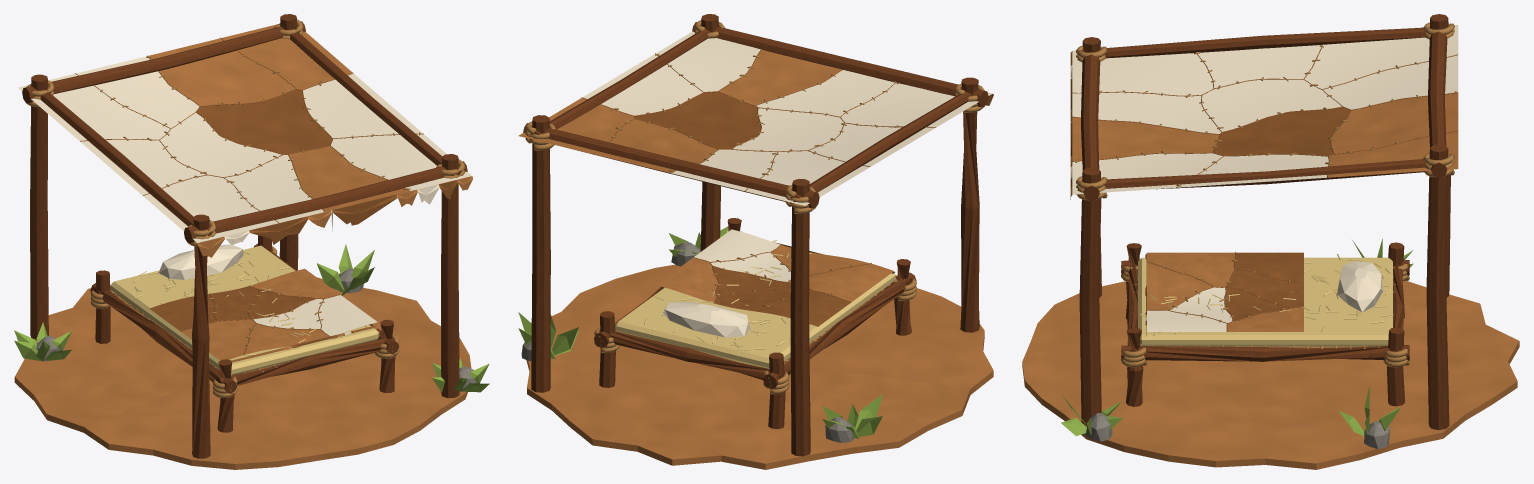
The model's file is sleeping_canopy.glb.
The picture shows the model from 3 angles, left to right: view 1: azimuth 30°, elevation 25°; view 2: azimuth 150°, elevation 25°; view 3: azimuth 270°, elevation 25°; orthographic projection. The views are drawn at different scales.
Parts seen in each view (by area): view 1: Sleeping canopy hide roof irregular hide patch (×3), Sandy island, Sleeping canopy post, Cot hide blanket irregular hide patch (×3), Thick straw mattress, Canopy crossbeam, Canopy side beam, Canopy hide fringe ragged lobe (×3), Tropical leaves, Cot leg, Cot long side rail, Cot end rail (+8 smaller); view 2: Sandy island, Sleeping canopy hide roof irregular hide patch (×3), Sleeping canopy post, Cot hide blanket irregular hide patch (×3), Thick straw mattress, Canopy crossbeam, Canopy side beam, Cot leg, Tropical leaves, Cot long side rail, Cot hide pillow, Cot end rail (+7 smaller); view 3: Sandy island, Sleeping canopy hide roof irregular hide patch (×3), Cot hide blanket irregular hide patch (×3), Sleeping canopy post, Thick straw mattress, Canopy side beam, Canopy crossbeam, Cot long side rail, Cot leg, Cot hide pillow, Sleeping canopy hide roof uneven seam cord, Tropical leaves (+7 smaller).
Part boxes in pixels (left/top/right/bottom): Sleeping canopy hide roof irregular hide patch (×3): left=18, top=24, right=471, bottom=242; Sandy island: left=14, top=277, right=471, bottom=469; Sleeping canopy post: left=30, top=14, right=459, bottom=458; Cot hide blanket irregular hide patch (×3): left=149, top=268, right=377, bottom=360; Thick straw mattress: left=110, top=245, right=379, bottom=374; Canopy crossbeam: left=22, top=21, right=467, bottom=242; Canopy side beam: left=30, top=23, right=460, bottom=236; Canopy hide fringe ragged lobe (×3): left=197, top=176, right=472, bottom=257; Tropical leaves: left=14, top=244, right=489, bottom=392; Cot leg: left=95, top=235, right=395, bottom=432; Cot long side rail: left=90, top=243, right=398, bottom=393; Cot end rail: left=93, top=248, right=395, bottom=385; Sandy island: left=526, top=264, right=993, bottom=469; Sleeping canopy hide roof irregular hide patch (×3): left=518, top=31, right=992, bottom=205; Sleeping canopy post: left=531, top=14, right=979, bottom=456; Cot hide blanket irregular hide patch (×3): left=656, top=229, right=893, bottom=326; Thick straw mattress: left=615, top=242, right=895, bottom=368; Canopy crossbeam: left=523, top=22, right=988, bottom=208; Canopy side beam: left=529, top=29, right=970, bottom=206; Cot leg: left=599, top=218, right=911, bottom=429; Tropical leaves: left=518, top=226, right=882, bottom=438; Cot long side rail: left=594, top=231, right=916, bottom=388; Cot hide pillow: left=663, top=302, right=750, bottom=337; Cot end rail: left=599, top=275, right=913, bottom=379; Sandy island: left=1022, top=280, right=1519, bottom=469; Sleeping canopy hide roof irregular hide patch (×3): left=1072, top=25, right=1458, bottom=194; Cot hide blanket irregular hide patch (×3): left=1147, top=252, right=1303, bottom=331; Sleeping canopy post: left=1079, top=14, right=1450, bottom=429; Thick straw mattress: left=1138, top=257, right=1392, bottom=346; Canopy side beam: left=1081, top=27, right=1429, bottom=189; Canopy crossbeam: left=1081, top=29, right=1447, bottom=200; Cot long side rail: left=1121, top=260, right=1409, bottom=361; Cot leg: left=1125, top=242, right=1404, bottom=406; Cot hide pillow: left=1337, top=261, right=1382, bottom=312; Sleeping canopy hide roof uneven seam cord: left=1072, top=44, right=1458, bottom=187; Tropical leaves: left=1061, top=238, right=1413, bottom=436.
Size of the model in its own units: 3.79 by 2.44 by 3.86.
Materials: 8 (5 with a texture image).
